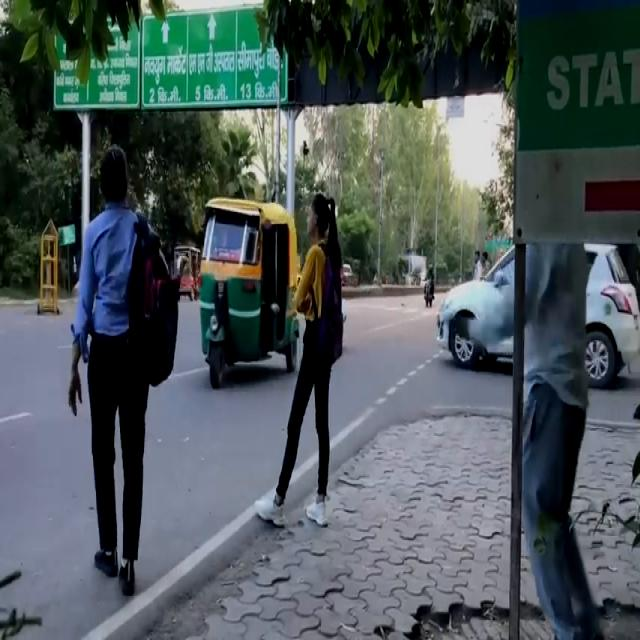MOTORCYCLE: (425, 280, 433, 309)
